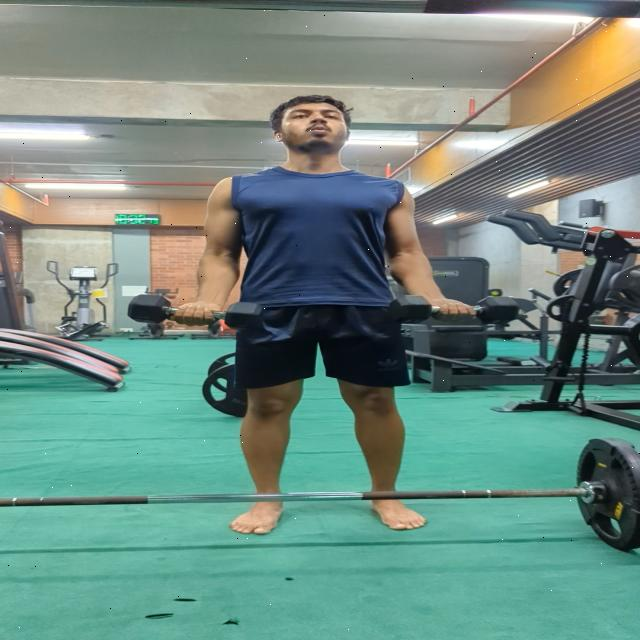Normal_DumbbellBicepCurls: (125, 91, 524, 538)
